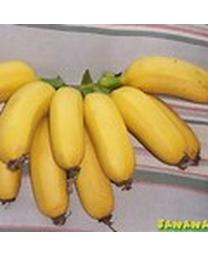banana: (0, 53, 203, 223)
